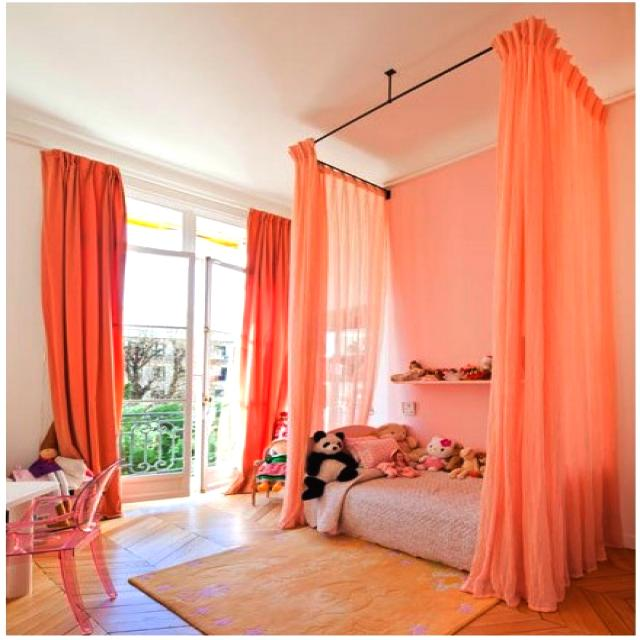bed: (323, 425, 512, 540)
